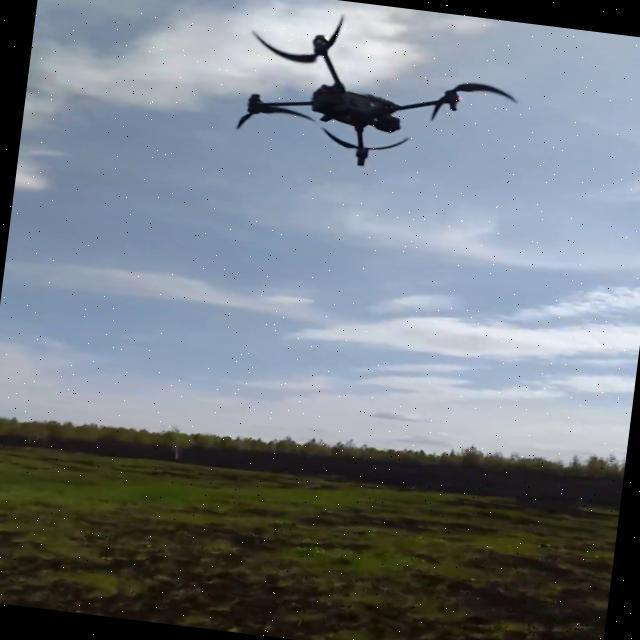Drons: (222, 0, 530, 189)
